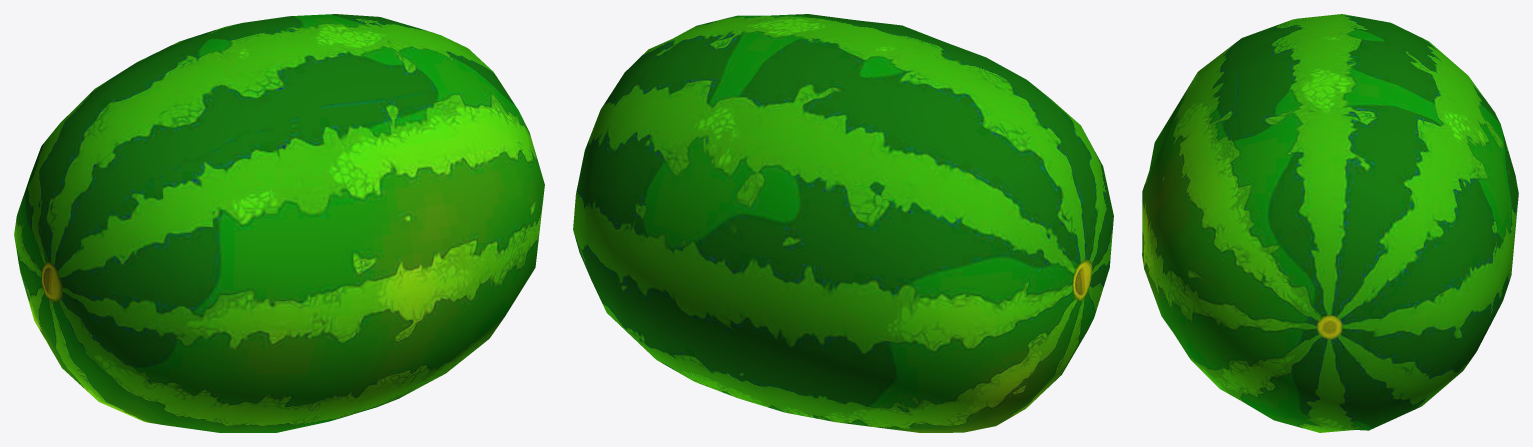
Rendered from watermelon.glb.
The picture shows the model from 3 angles, left to right: view 1: azimuth 30°, elevation 25°; view 2: azimuth 150°, elevation 25°; view 3: azimuth 270°, elevation 25°; orthographic projection. The views are drawn at different scales.
Parts seen in each view (by area): view 1: WaterMelon low.002_WaterMelon Baked_0; view 2: WaterMelon low.002_WaterMelon Baked_0; view 3: WaterMelon low.002_WaterMelon Baked_0.
Part boxes in pixels (box(x1,y1,x2,y2)): WaterMelon low.002_WaterMelon Baked_0: box(14, 14, 544, 432); WaterMelon low.002_WaterMelon Baked_0: box(573, 14, 1113, 432); WaterMelon low.002_WaterMelon Baked_0: box(1142, 14, 1518, 432).
Size of the model in its own units: 0.3688 by 0.276 by 0.2791.
Materials: 1 (1 with a texture image).
